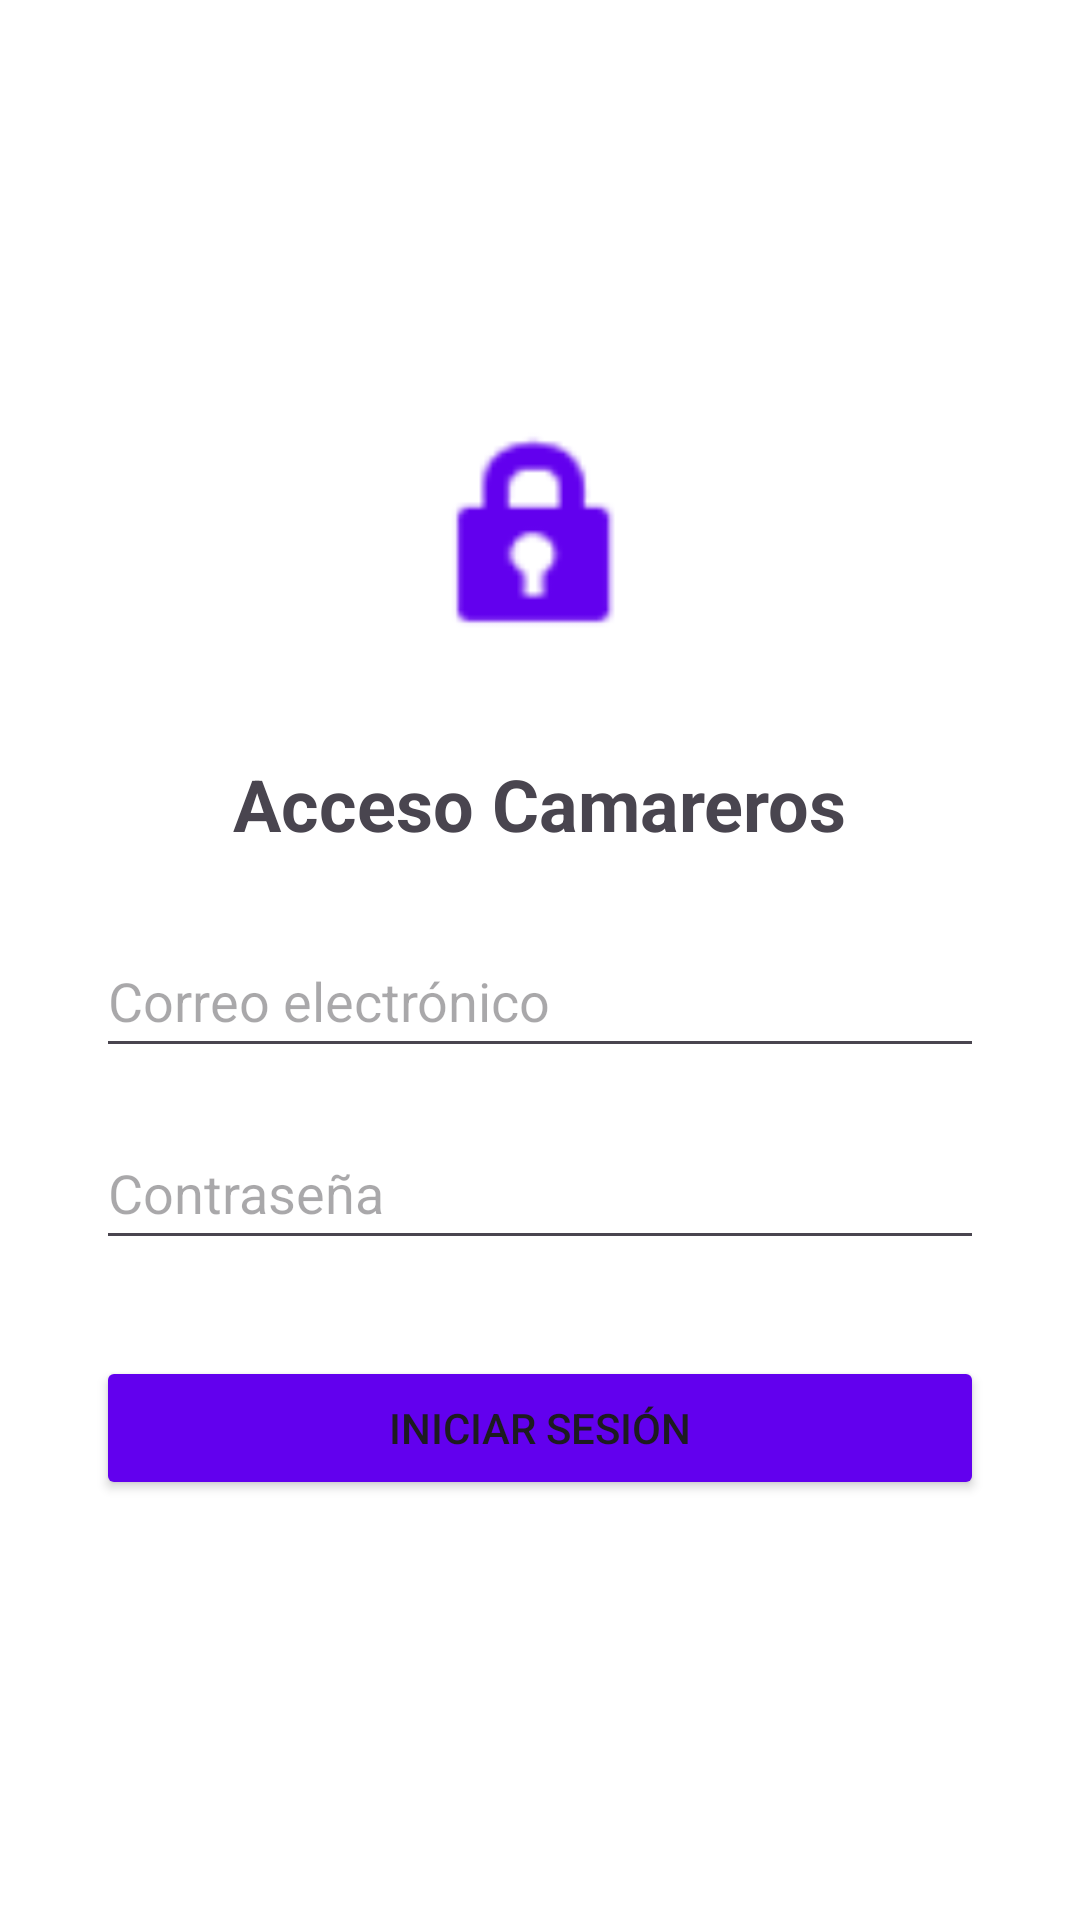

Icons on this 1080w x 1920h Android screen, each with the point to tap as point (x, y):
lock idle: point (535, 530)
